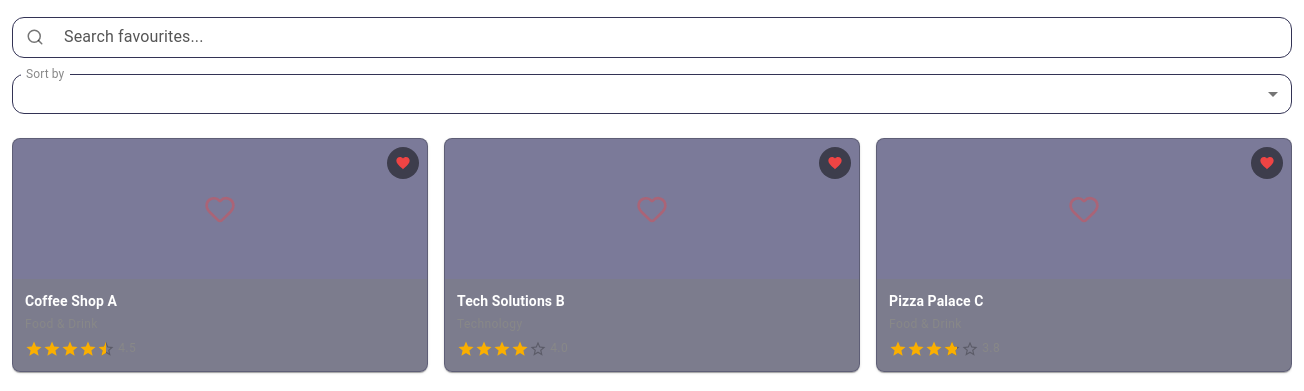
Test case: Favourites Dashboard Page › 4: search filter narrows displayed cards
Expected: the heading "Coffee Shop A" is shown, [25, 293, 117, 309]
In the field: (672, 37) [52, 17, 1292, 58], type "coffee"
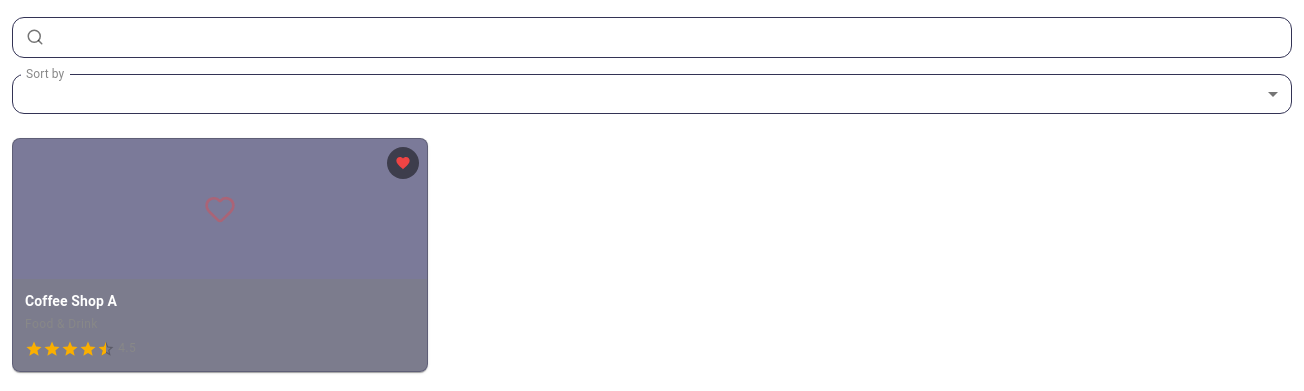
Expected: the heading "Coffee Shop A" is shown, [25, 293, 117, 309]
Now the heading "Tech Solutions B" is gone
